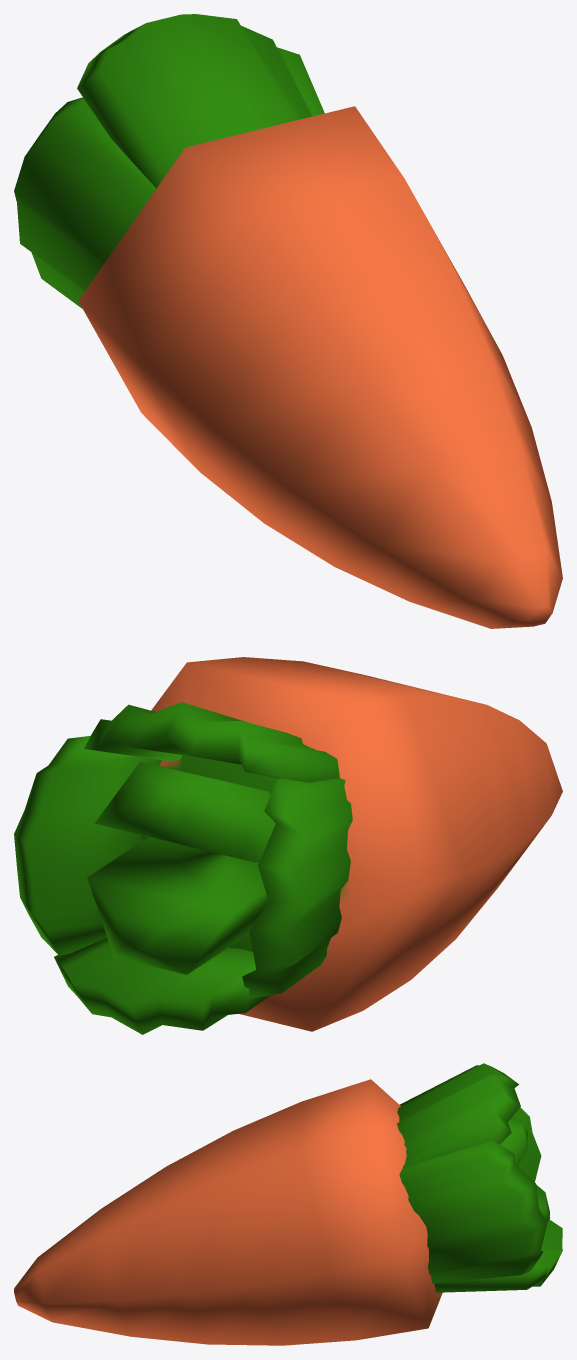
The model's file is carrot.fbx.
The picture shows the model from 3 angles, top to bottom: view 1: azimuth 30°, elevation 25°; view 2: azimuth 150°, elevation 25°; view 3: azimuth 270°, elevation 25°; orthographic projection. The views are drawn at different scales.
Parts seen in each view (by area): view 1: carrot.1; view 2: carrot.1; view 3: carrot.1.
Part boxes in pixels (left/top/right/bottom): carrot.1: left=14, top=14, right=562, bottom=628; carrot.1: left=14, top=657, right=562, bottom=1034; carrot.1: left=14, top=1063, right=562, bottom=1345.
Size of the model in its own units: 70 by 74.86 by 149.
1 material, 1 textured.
